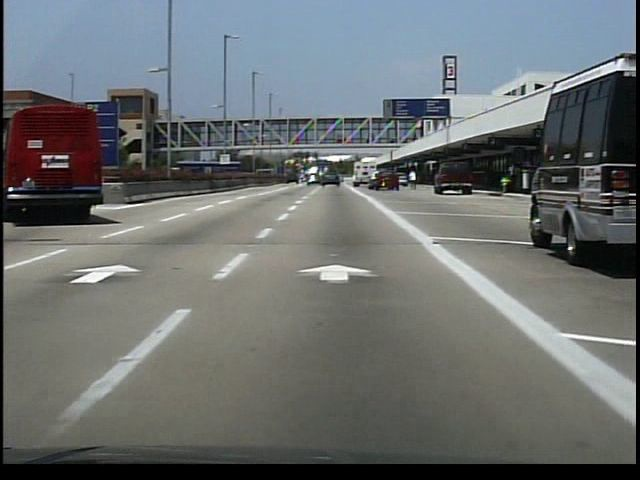person: (507, 163, 520, 197), (408, 168, 422, 191)
